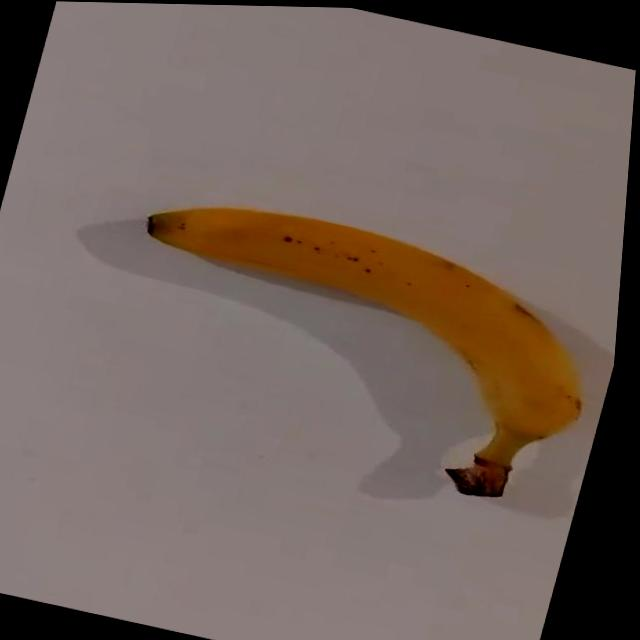Banana: (95, 182, 625, 514)
